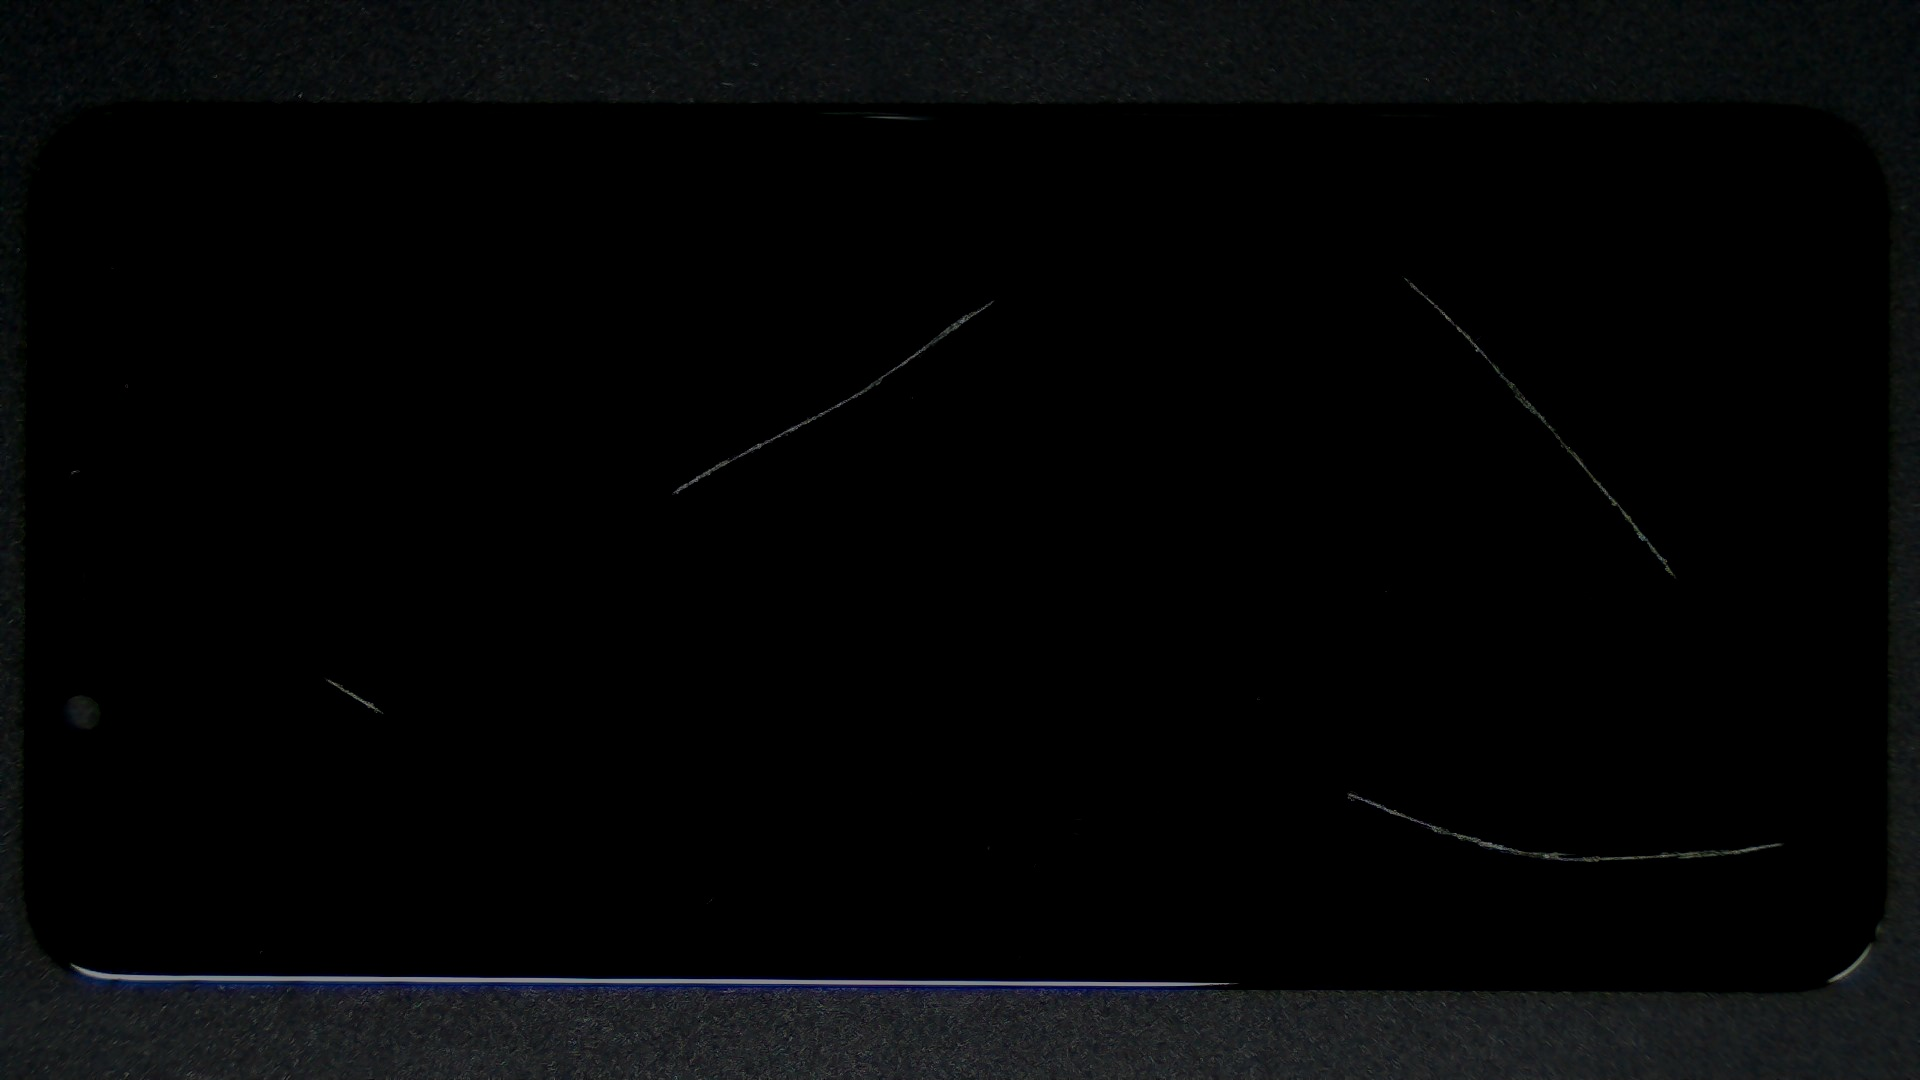oil: (675, 394, 1920, 1080), (700, 137, 1920, 413), (497, 149, 1489, 450), (161, 338, 483, 1013)
